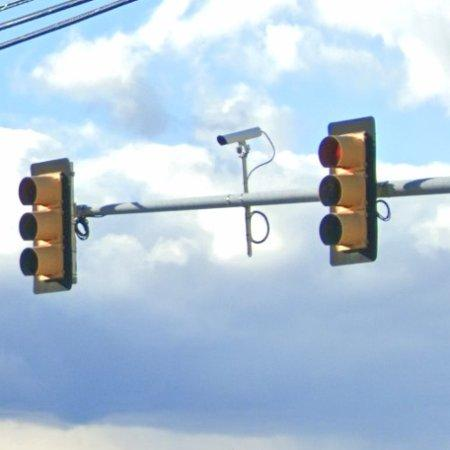traffic lights: (19, 159, 76, 293)
